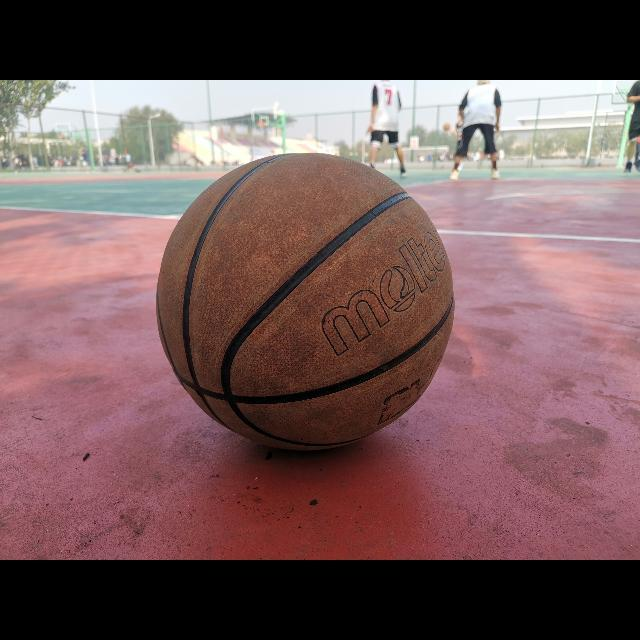basketball: (158, 153, 456, 450)
